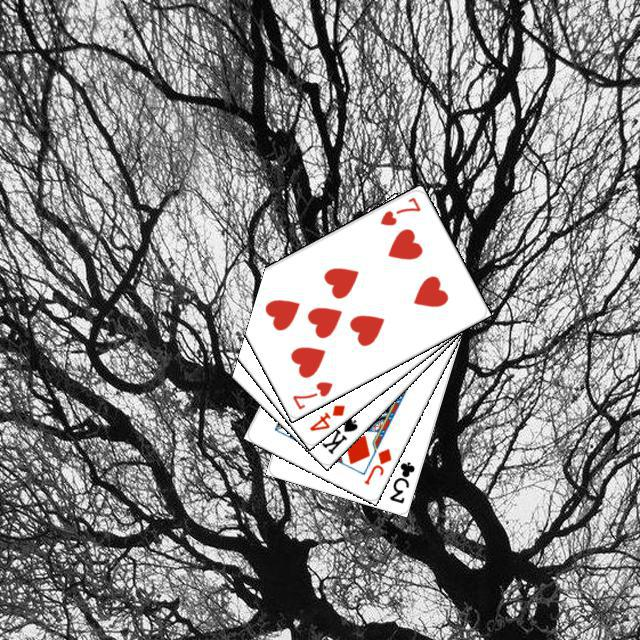3c: (384, 456, 416, 505)
4d: (304, 400, 347, 433)
7h: (287, 376, 334, 411), (375, 192, 422, 227)
Jd: (359, 443, 393, 486)
Ks: (316, 413, 359, 456)
